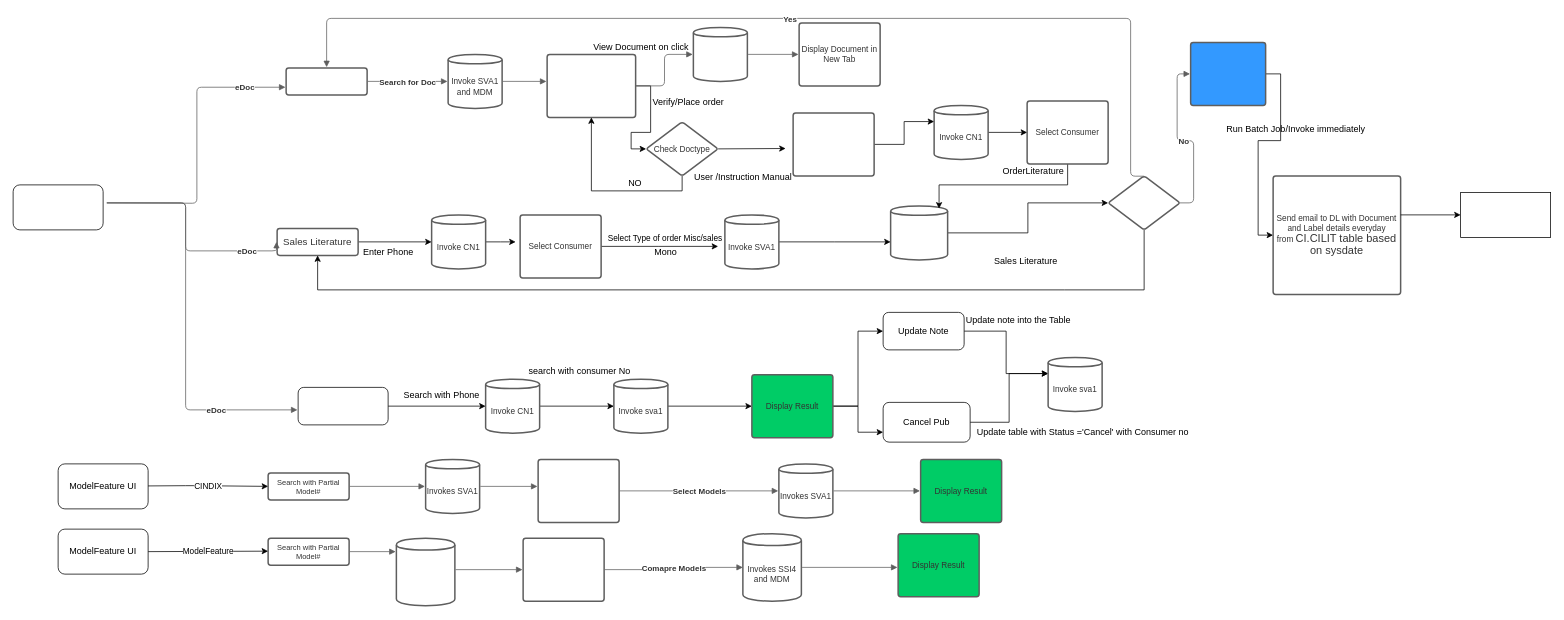
Image size: 1564x620. Some labels were removed from this diagram. Each missing label, with the box of its shape:
Any more orders ?: (1107, 175, 1180, 230)
Display Document List: (546, 53, 636, 118)
Display Model List on Left of Page: (522, 537, 604, 602)
Display Models List: (537, 458, 620, 523)
eDoc UI: (12, 184, 103, 230)
Insert into CI.CILIT_CALL: (890, 205, 948, 260)
Invoke Salsify/Old R drive: (692, 26, 748, 82)
Invokes SSI4 & MDM: (395, 537, 455, 606)
Label Details: (297, 387, 388, 425)
Order Literature: (285, 67, 368, 95)
Order Placed: (1190, 41, 1266, 106)
Search consumer by phone: (792, 112, 874, 176)
Send to DriView for printing: (1460, 192, 1551, 237)
